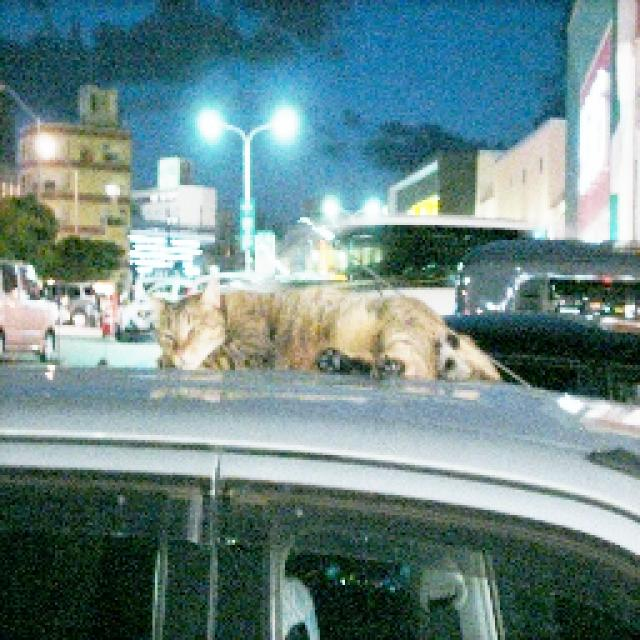cat: (110, 202, 478, 406)
